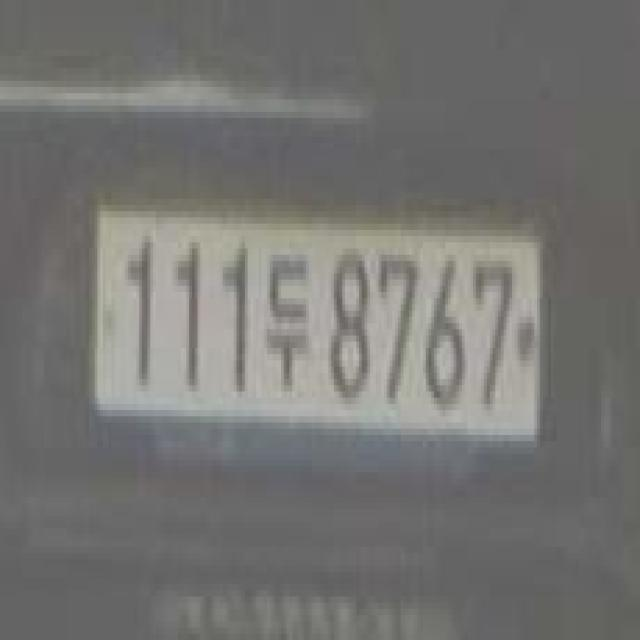illegal_plate: (86, 188, 546, 487)
